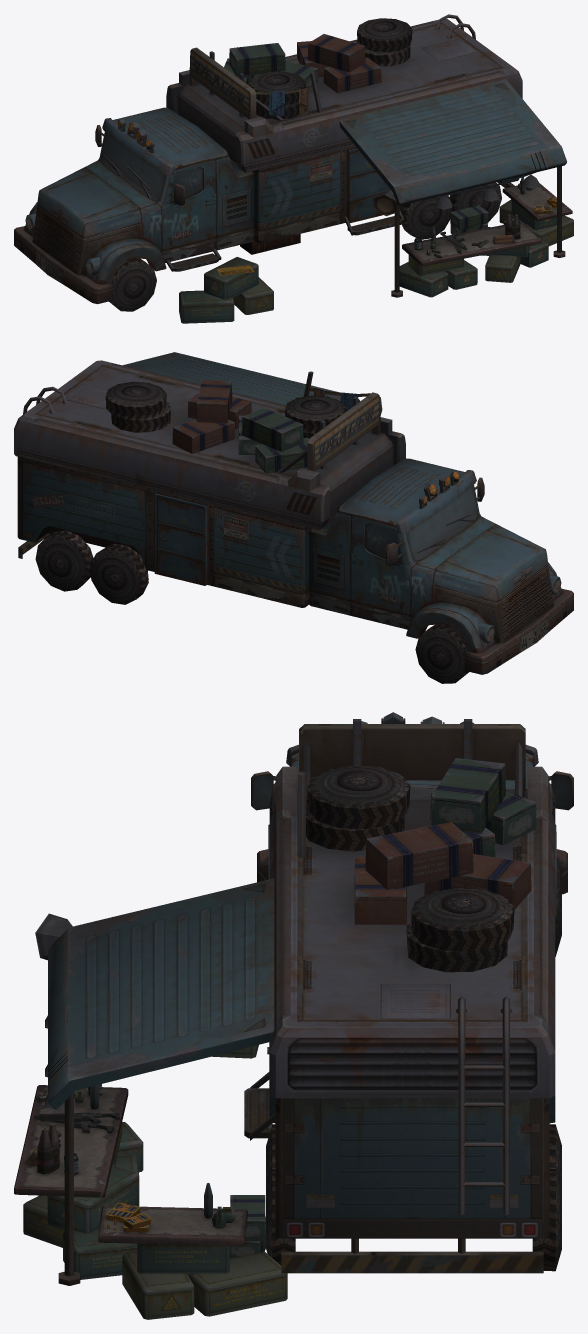
Rendered from DealerCamper.FBX.
The picture shows the model from 3 angles, top to bottom: view 1: azimuth 30°, elevation 25°; view 2: azimuth 150°, elevation 25°; view 3: azimuth 270°, elevation 25°; orthographic projection. The views are drawn at different scales.
Parts seen in each view (by area): view 1: Carhouse; view 2: Carhouse; view 3: Carhouse.
Boxes of the visible parts, x1,y1,x2,y2 form: Carhouse: (14, 14, 573, 323); Carhouse: (14, 352, 573, 683); Carhouse: (14, 712, 573, 1319).
Bounding box in the file's own units: 9.04 × 3.61 × 5.17.
1 material, 1 textured.
